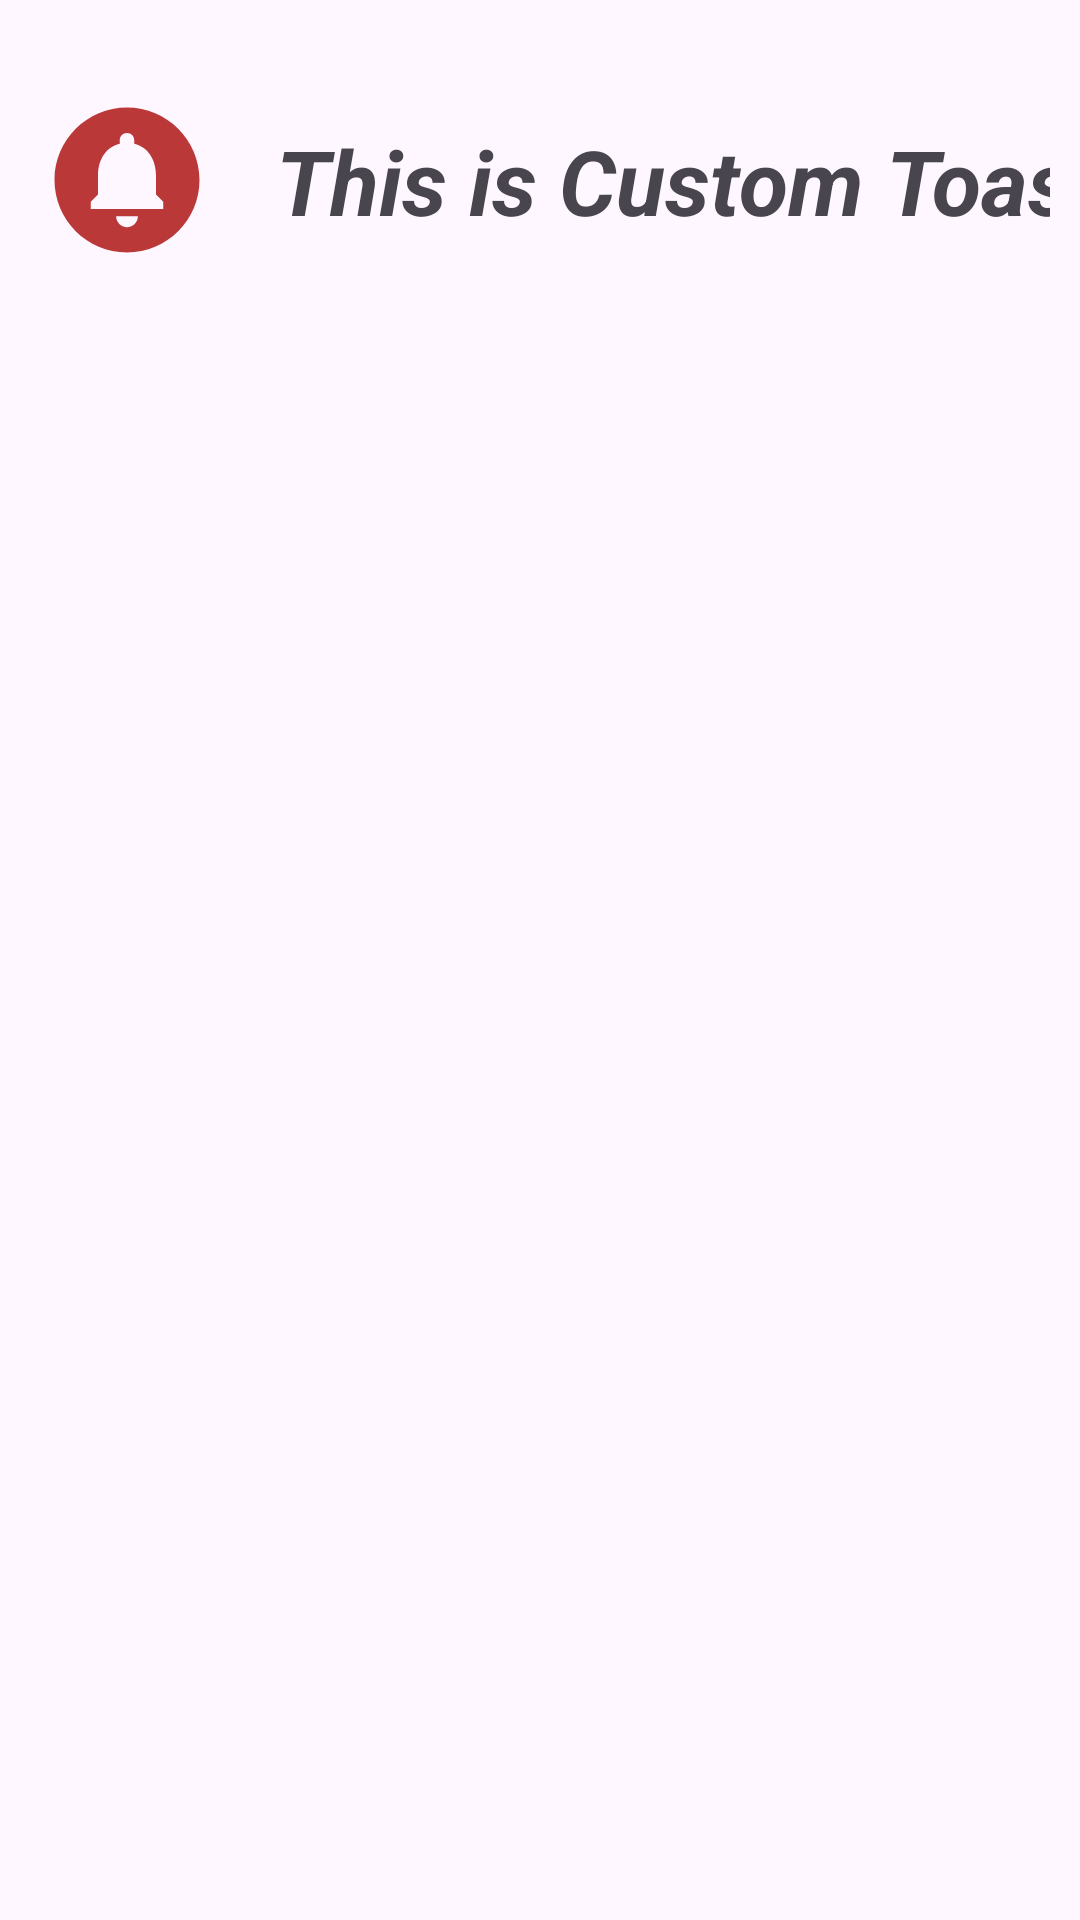

Locate icon controls on the screen. Image size 1080px x 1920px, boxes as (x1, y1, x2, y2).
notify: (54, 107, 200, 253)
